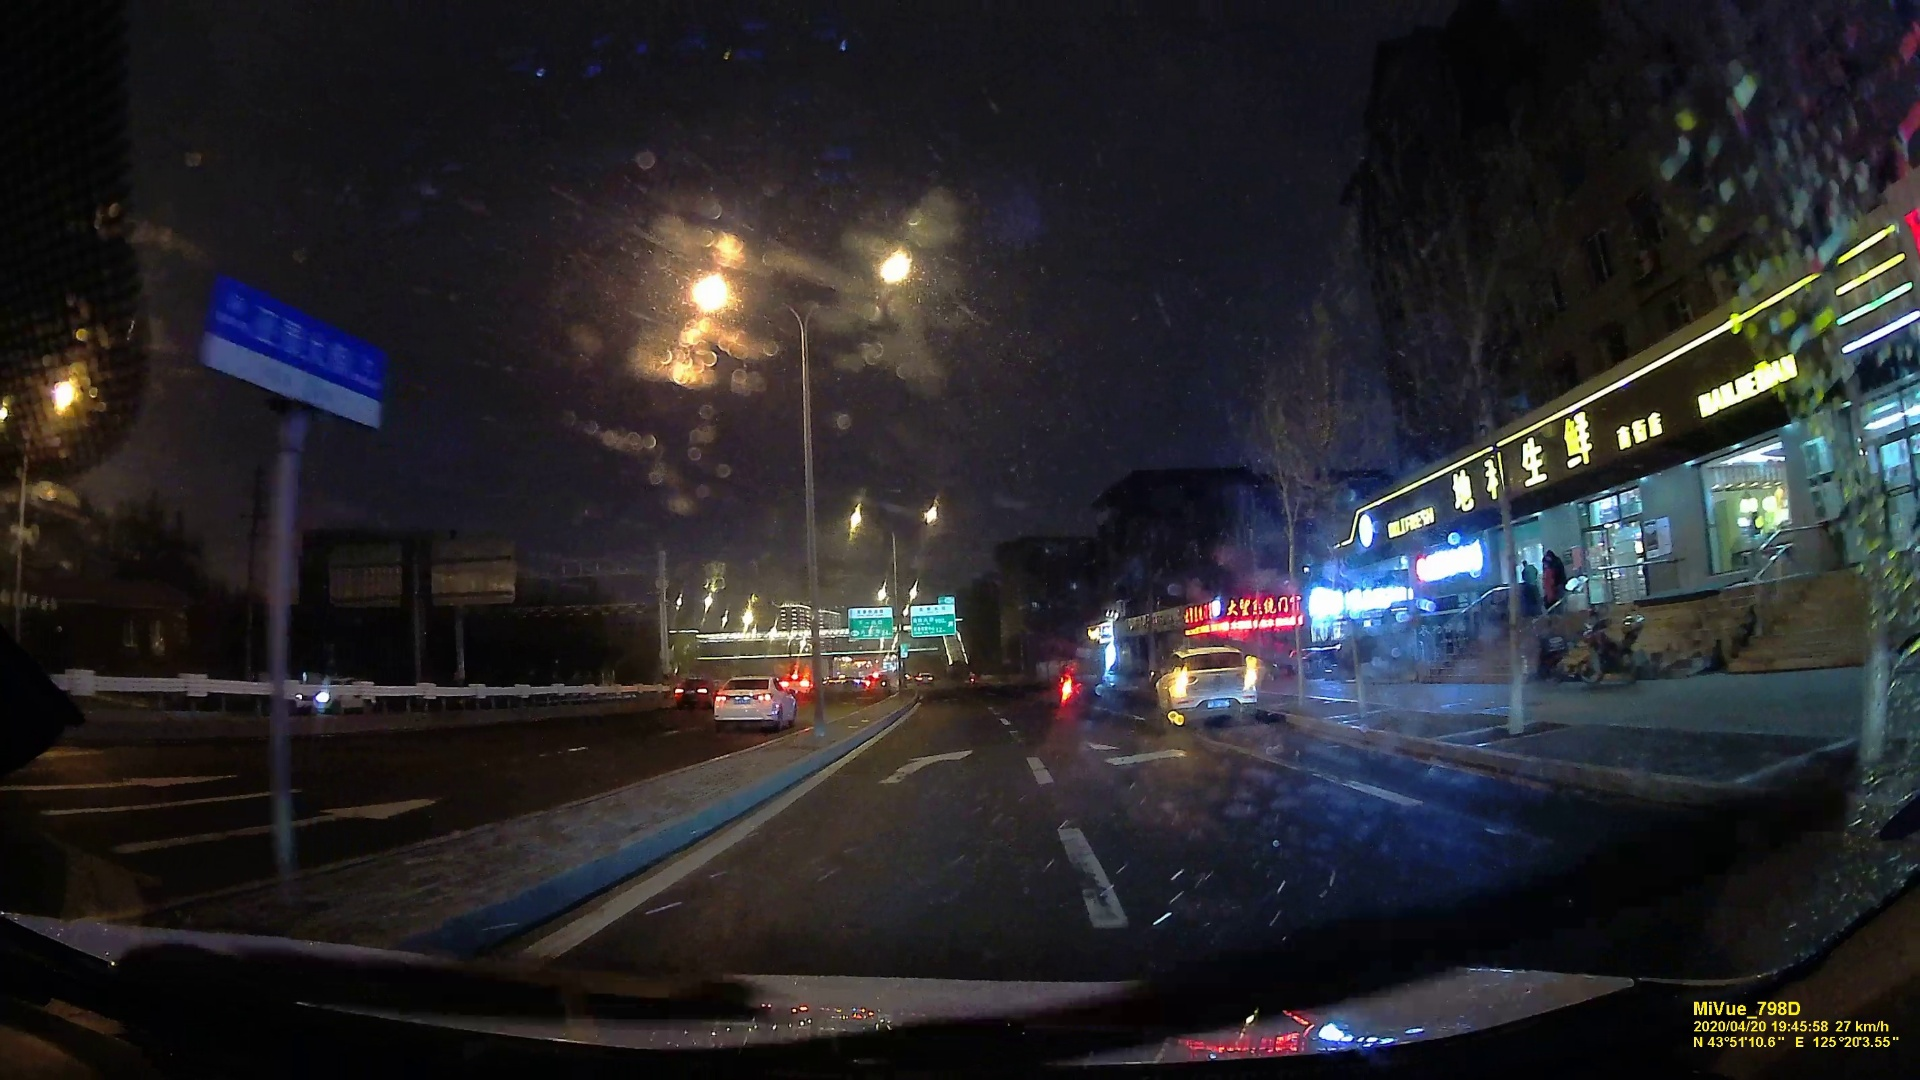person: (1545, 550, 1563, 597), (1520, 558, 1536, 595)
traffic_sign: (910, 605, 955, 634), (846, 609, 891, 636)
vehicle: (1152, 647, 1256, 721), (711, 676, 791, 728), (672, 678, 719, 701)
